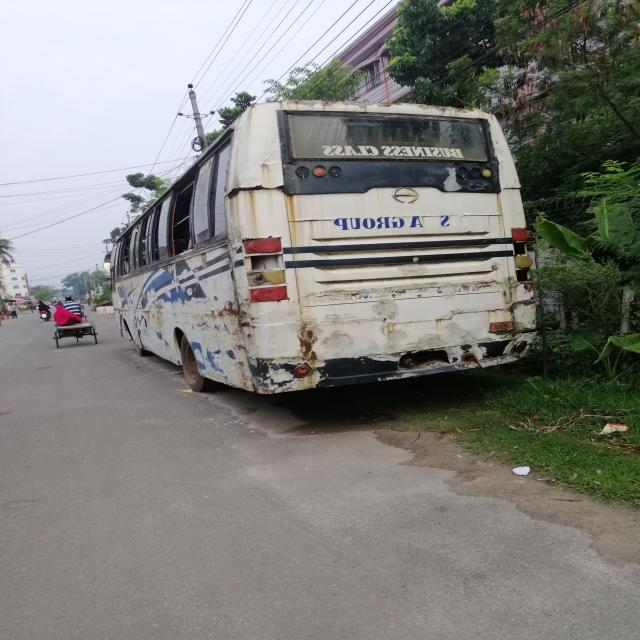Bus: (100, 98, 540, 401)
